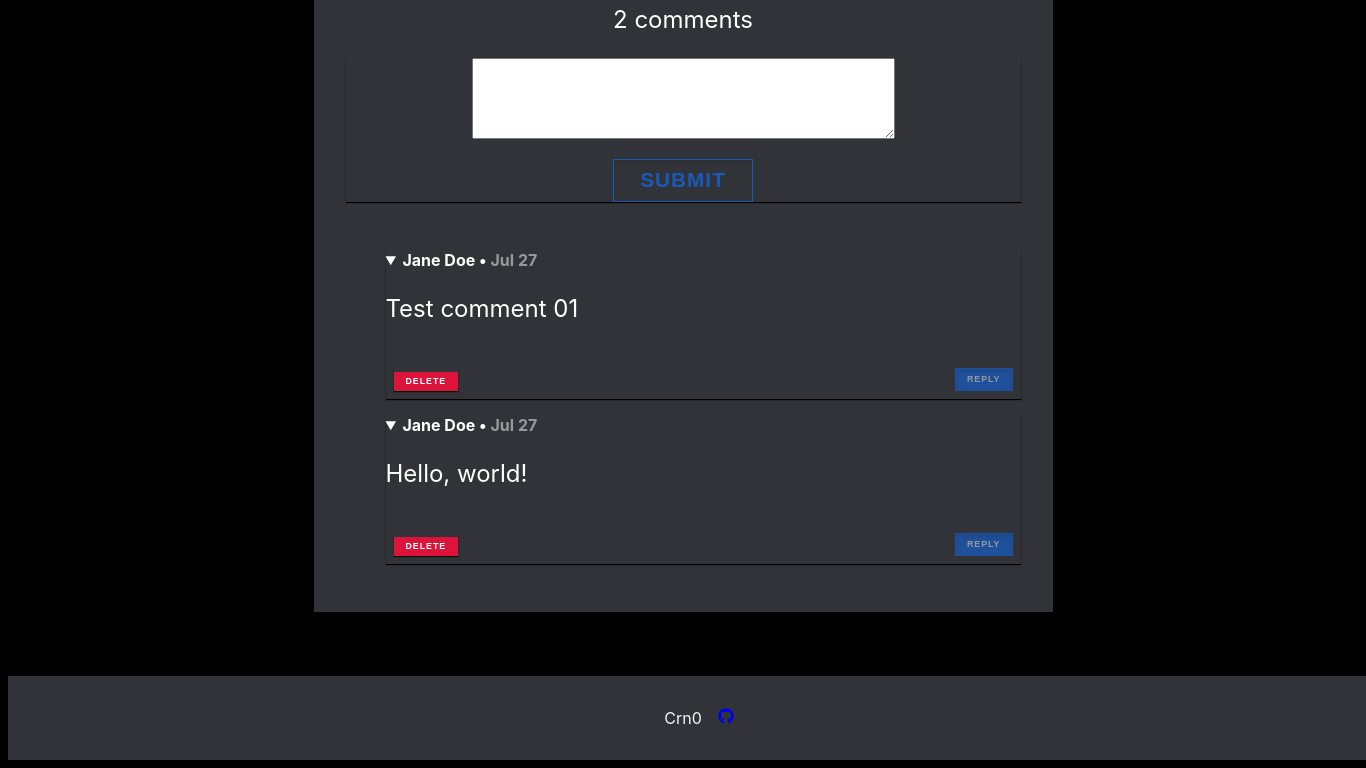
Test: Blog post detail page › authenticated user can delete their comment
(page scrolled)
Click the button "Delete" below "Hello, world!" at (426, 546), box [394,537,458,556]
(page scrolled)
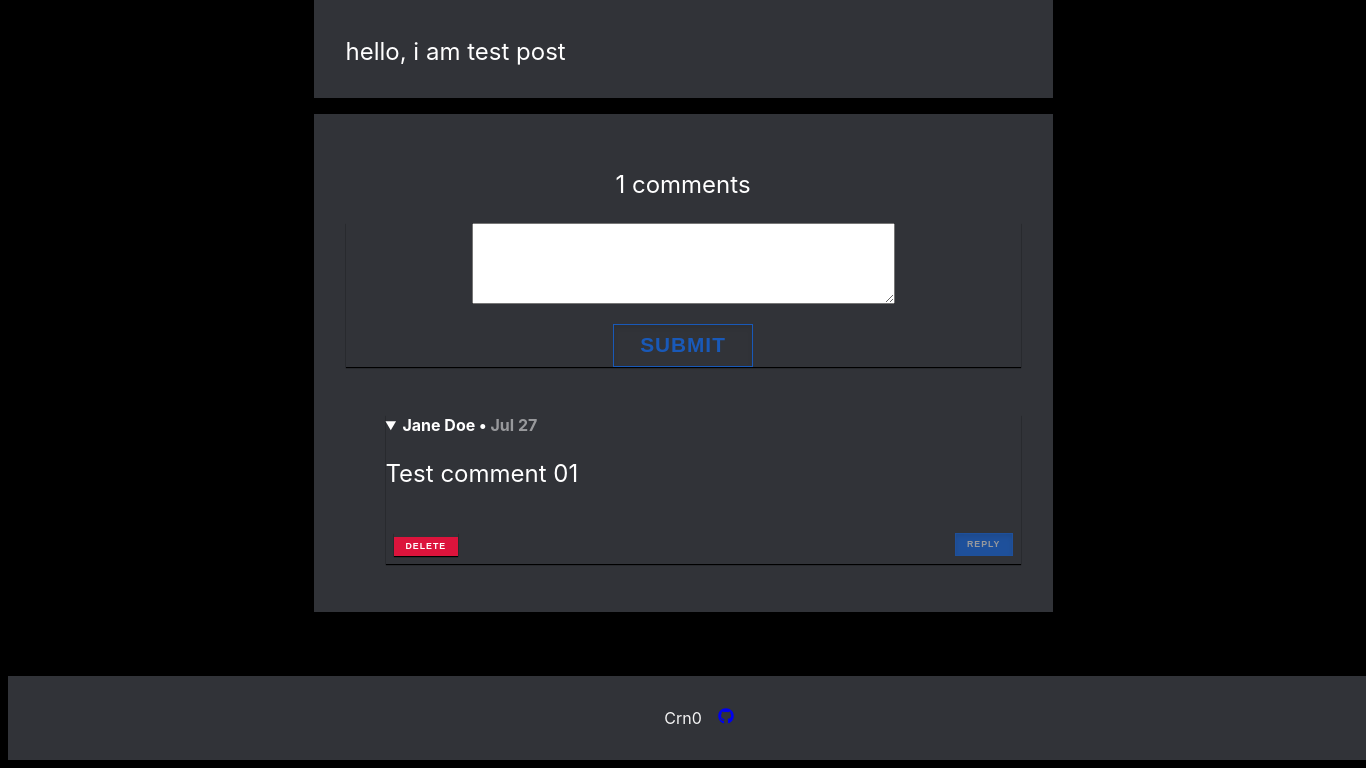
Check: the text "Hello, world!" is gone
